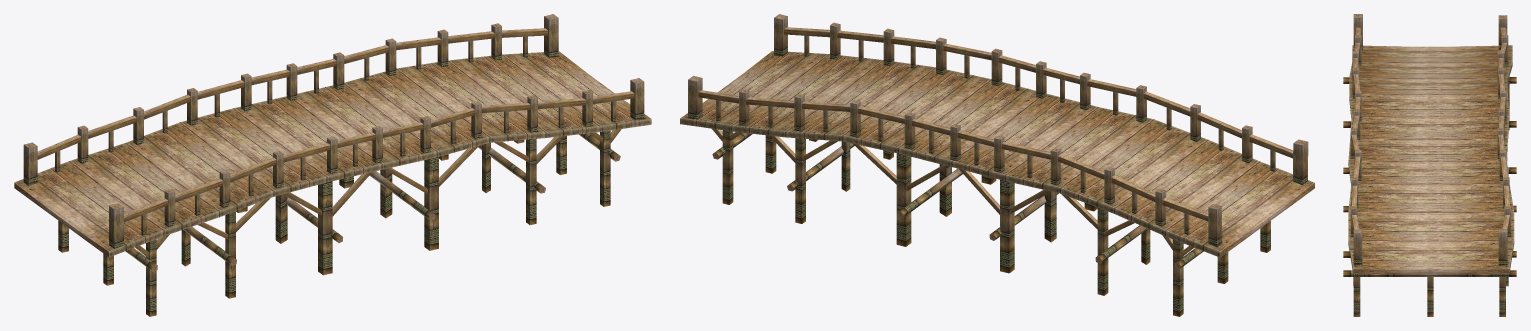
File: qiao_01.FBX
3 views of the same model, side by side, from view 1: azimuth 30°, elevation 25°; view 2: azimuth 150°, elevation 25°; view 3: azimuth 270°, elevation 25° (orthographic). The views are drawn at different scales.
Parts seen in each view (by area): view 1: KIN_N_muqiao_001_SUB001; view 2: KIN_N_muqiao_001_SUB001; view 3: KIN_N_muqiao_001_SUB001.
Boxes of the visible parts, x1=… form: KIN_N_muqiao_001_SUB001: x1=14, y1=14, x2=651, y2=316; KIN_N_muqiao_001_SUB001: x1=680, y1=14, x2=1314, y2=316; KIN_N_muqiao_001_SUB001: x1=1343, y1=14, x2=1516, y2=316.
Bounding box in the file's own units: 20 × 4.65 × 6.56.
